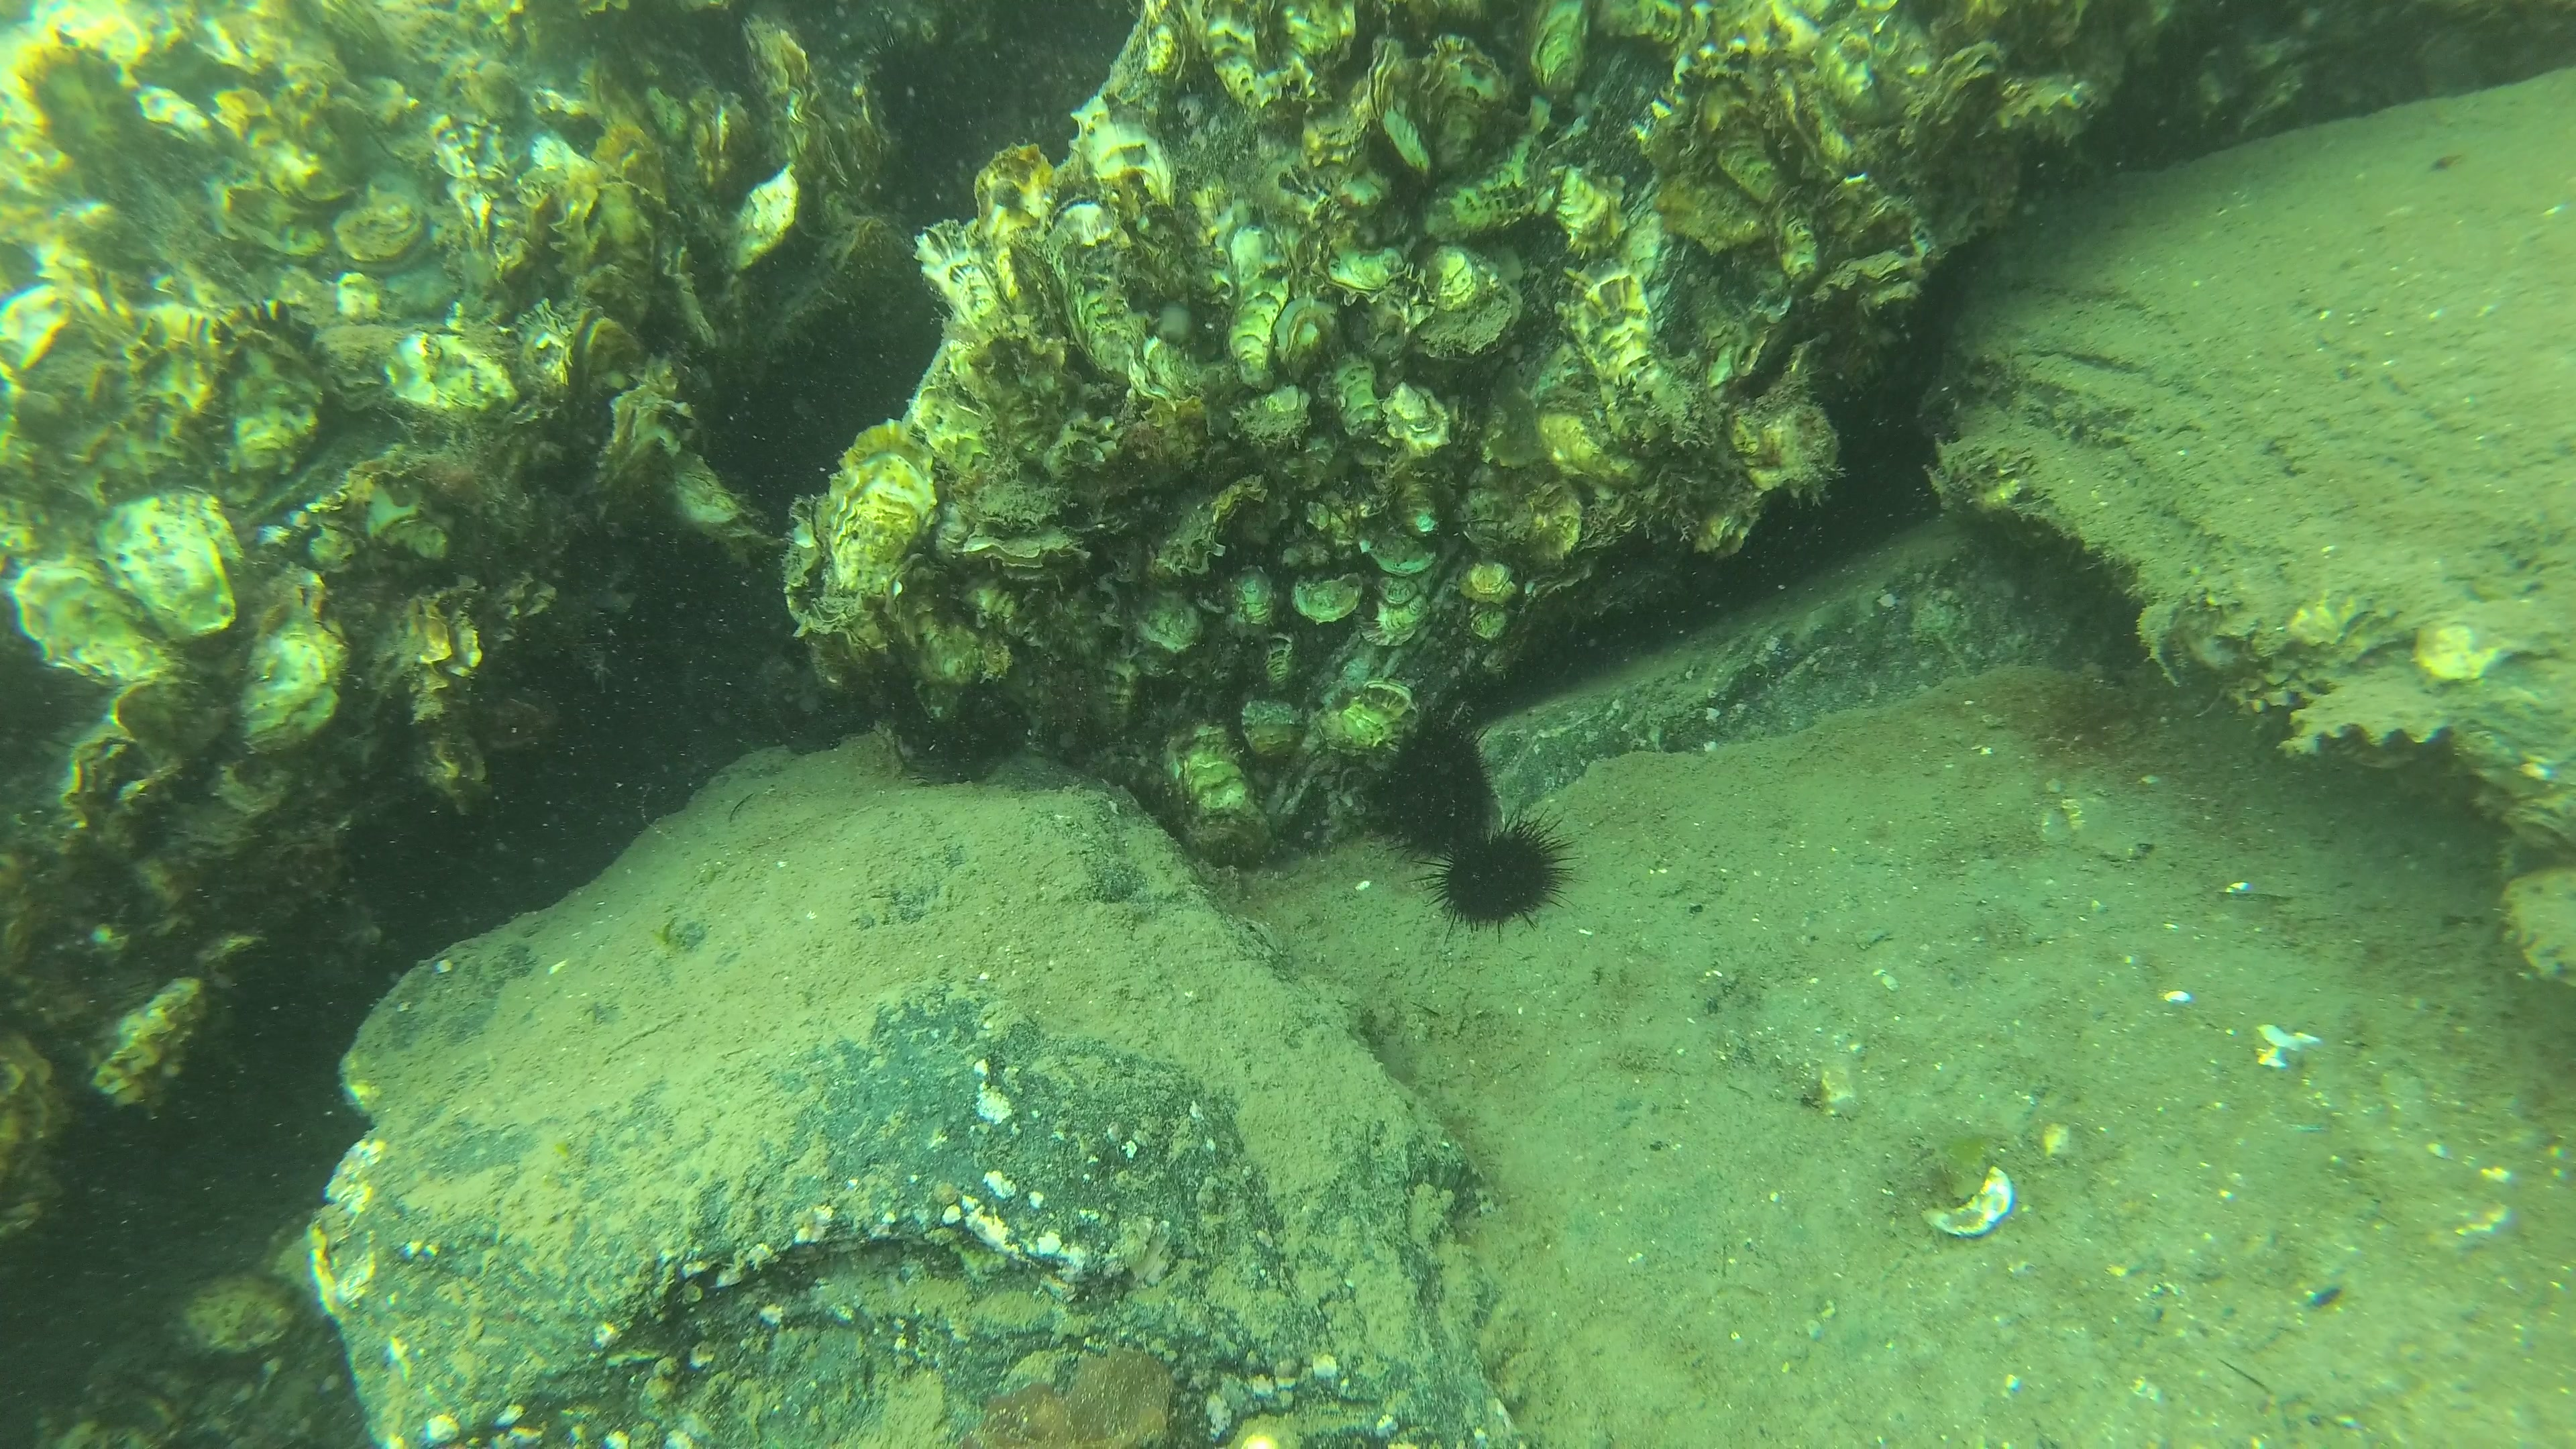echinus: (1430, 824, 1585, 929), (1382, 738, 1493, 846)
